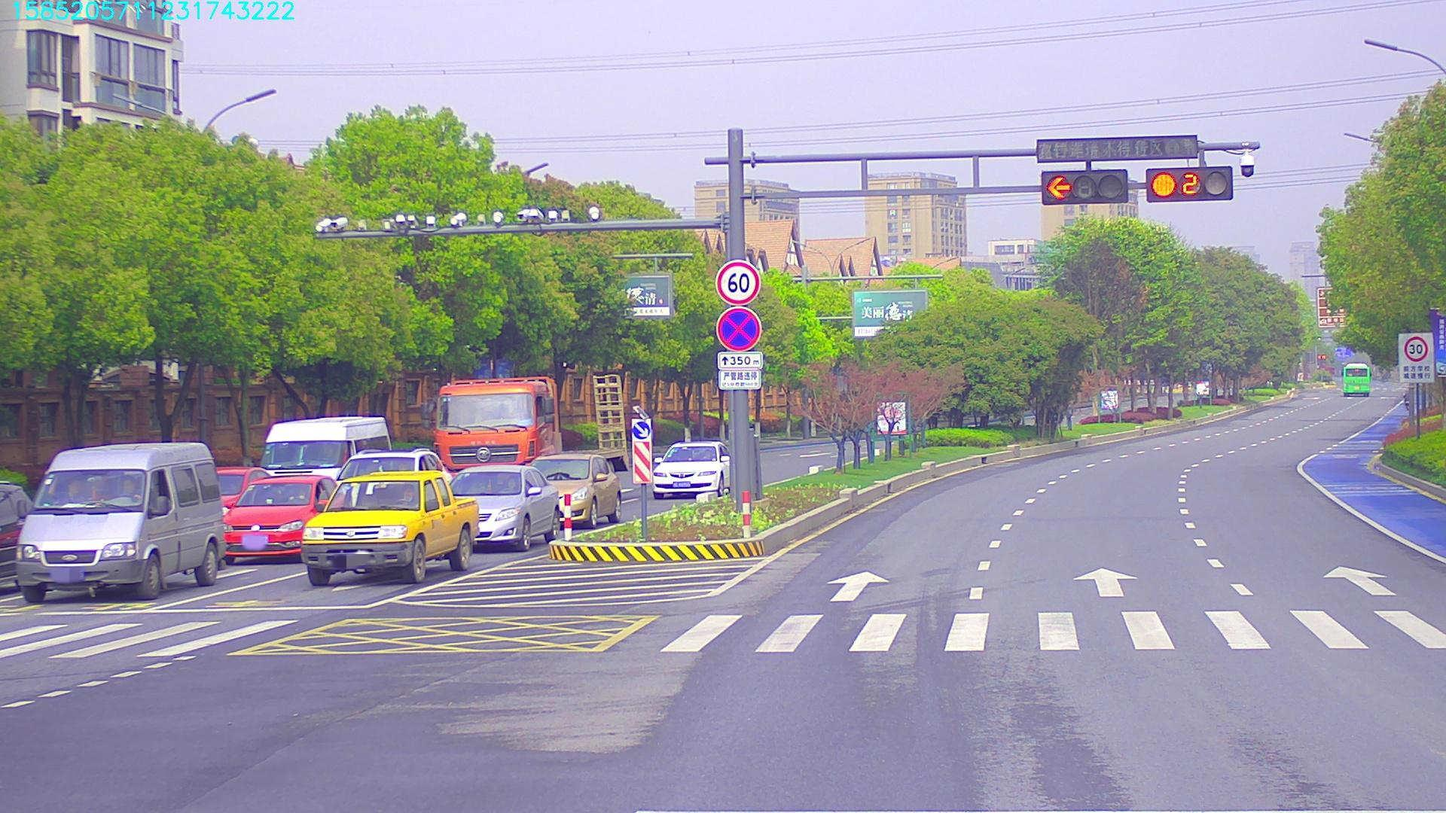red: (1039, 171, 1133, 209), (1147, 166, 1225, 196)
